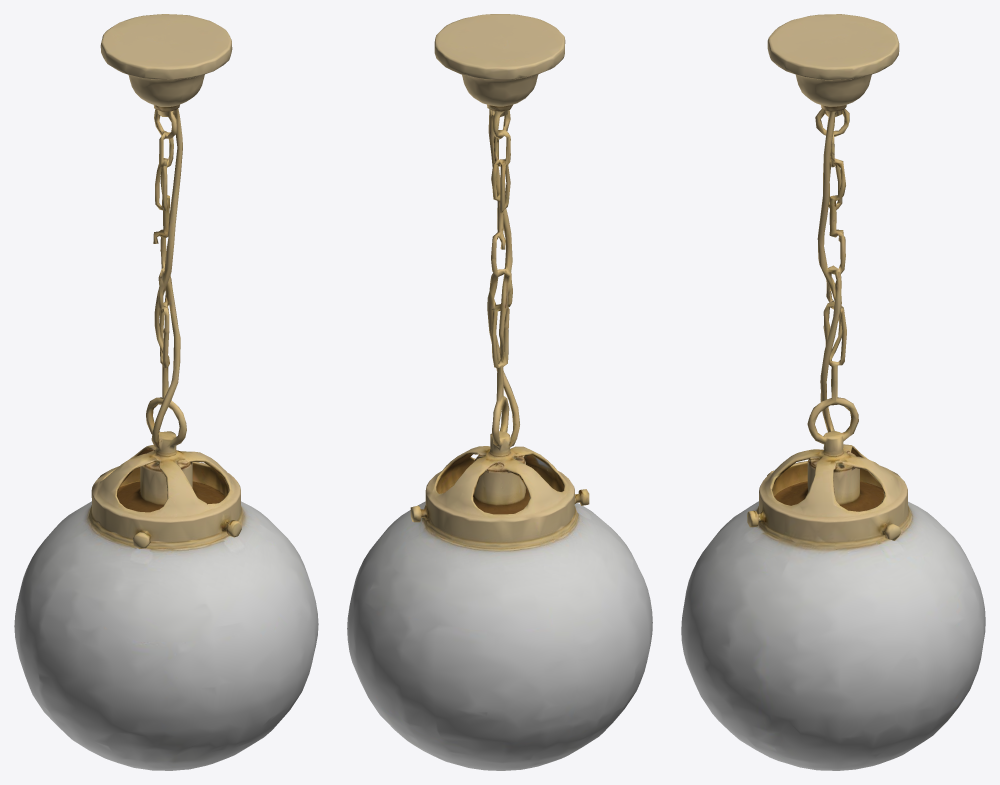
Rendered from hall_lamp.glb.
3 renders of one model, left to right at view 1: azimuth 30°, elevation 25°; view 2: azimuth 150°, elevation 25°; view 3: azimuth 270°, elevation 25°, orthographic.
Visible parts, largest first — view 1: tripo_node_400d2b9e-b5d2-4823-9fd2-91a831c1b0f3; view 2: tripo_node_400d2b9e-b5d2-4823-9fd2-91a831c1b0f3; view 3: tripo_node_400d2b9e-b5d2-4823-9fd2-91a831c1b0f3.
Part boxes in pixels (bbox=[...]): tripo_node_400d2b9e-b5d2-4823-9fd2-91a831c1b0f3: bbox=[14, 14, 318, 770]; tripo_node_400d2b9e-b5d2-4823-9fd2-91a831c1b0f3: bbox=[347, 14, 652, 770]; tripo_node_400d2b9e-b5d2-4823-9fd2-91a831c1b0f3: bbox=[681, 14, 985, 770].
Size of the model in its own units: 0.3865 by 1 by 0.3851.
1 material, 1 textured.
